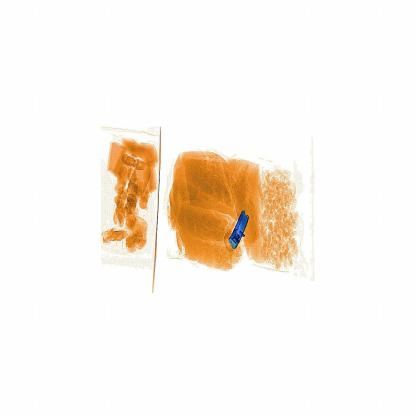pliers: (222, 204, 260, 255)
